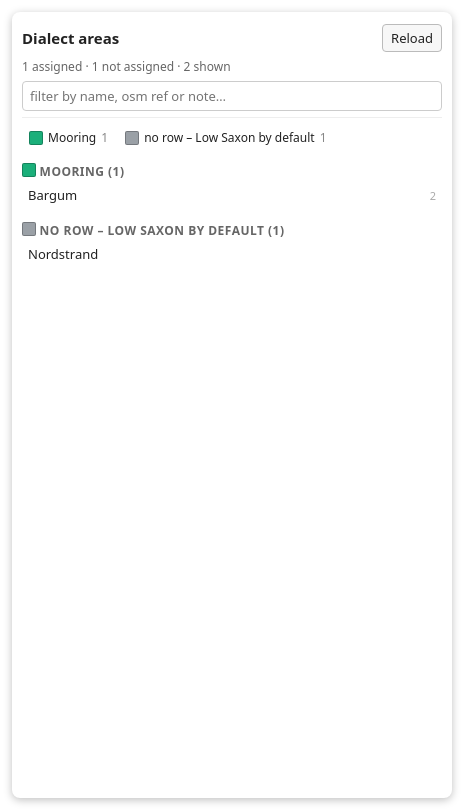
Test: AreaPanel › offers to copy the reference of a selected municipality no row claims
The width and height of the screenshot is (473, 810).
Expected: the button "Bargum 2" is shown, [22,182,442,208]
Click the button "Nordstrand". click: (63, 254)
box: [22,241,442,267]
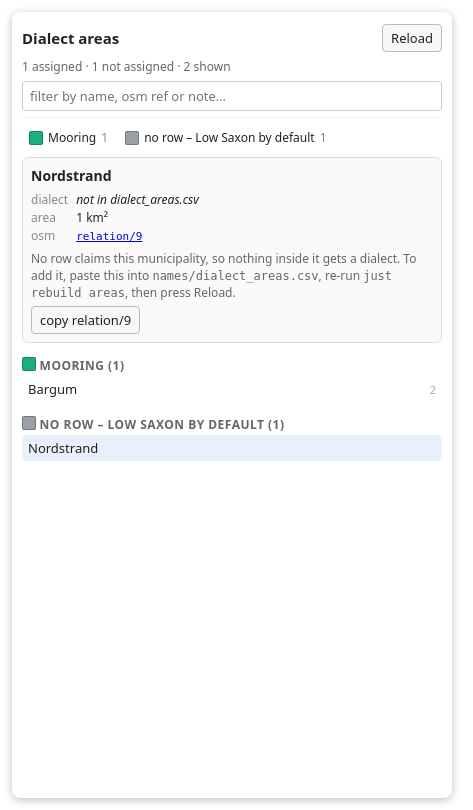
Now the button "copy relation/9" is shown, box [31,306,140,334]
